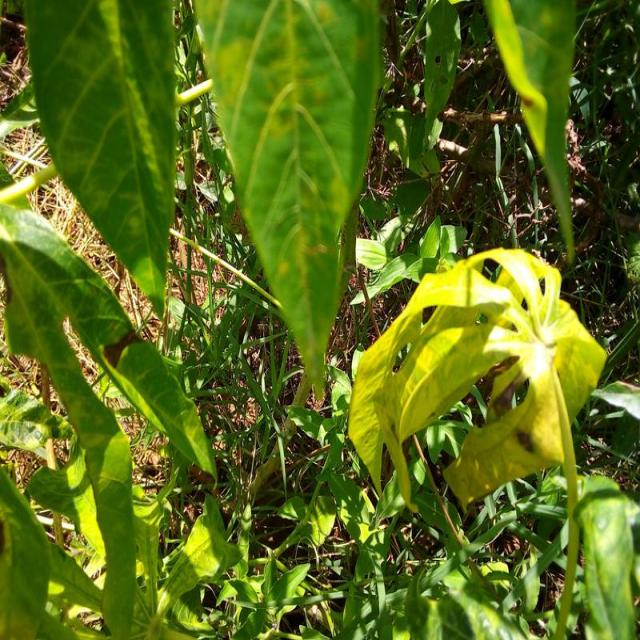cassava leaf: (193, 0, 383, 398), (346, 245, 606, 516), (22, 0, 178, 321)
